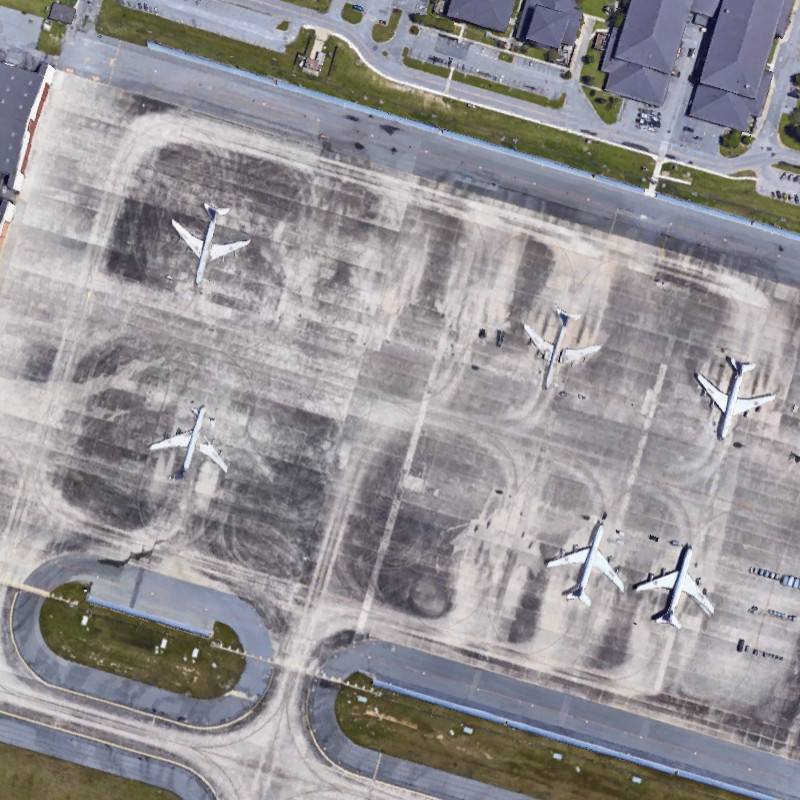A11: (161, 197, 259, 295), (513, 296, 605, 400), (689, 343, 776, 450), (535, 514, 626, 612), (631, 534, 718, 633), (147, 388, 231, 488)
